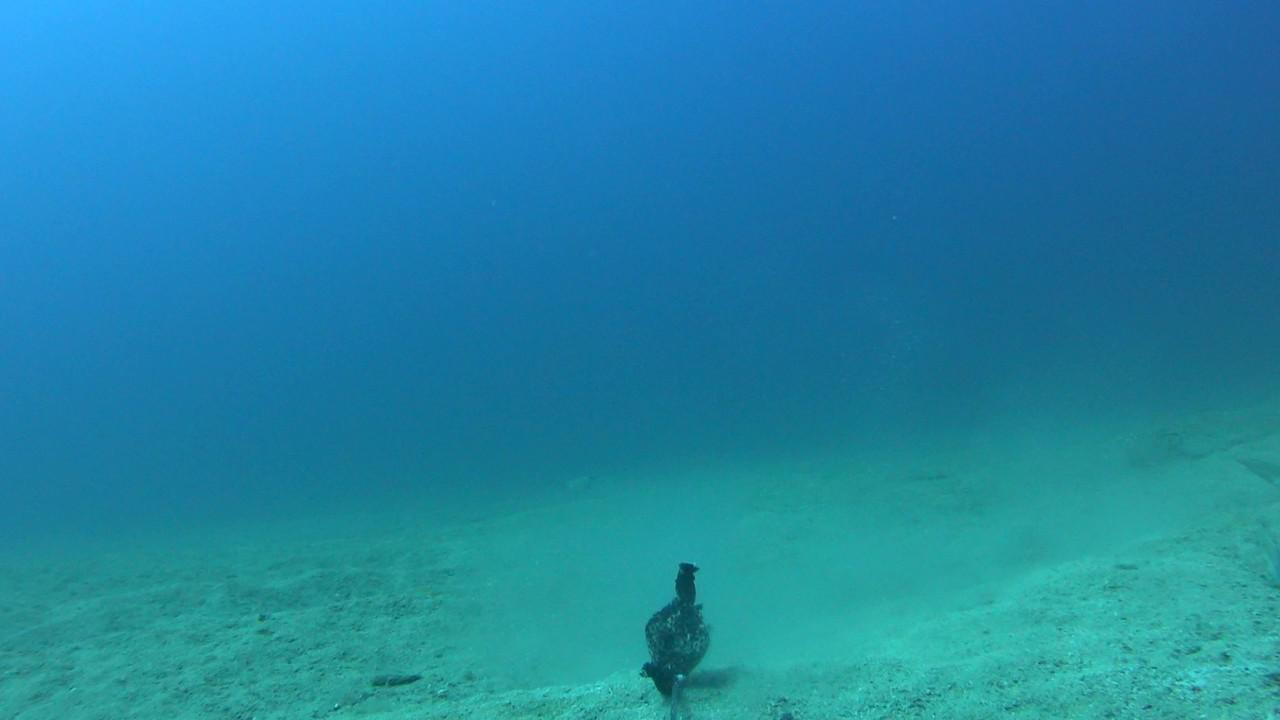myliobatis: (549, 463, 607, 499)
